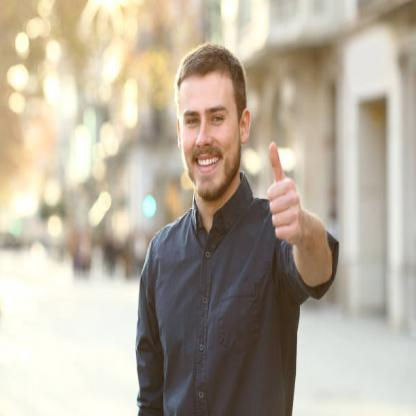thumb_up: (263, 140, 308, 249)
